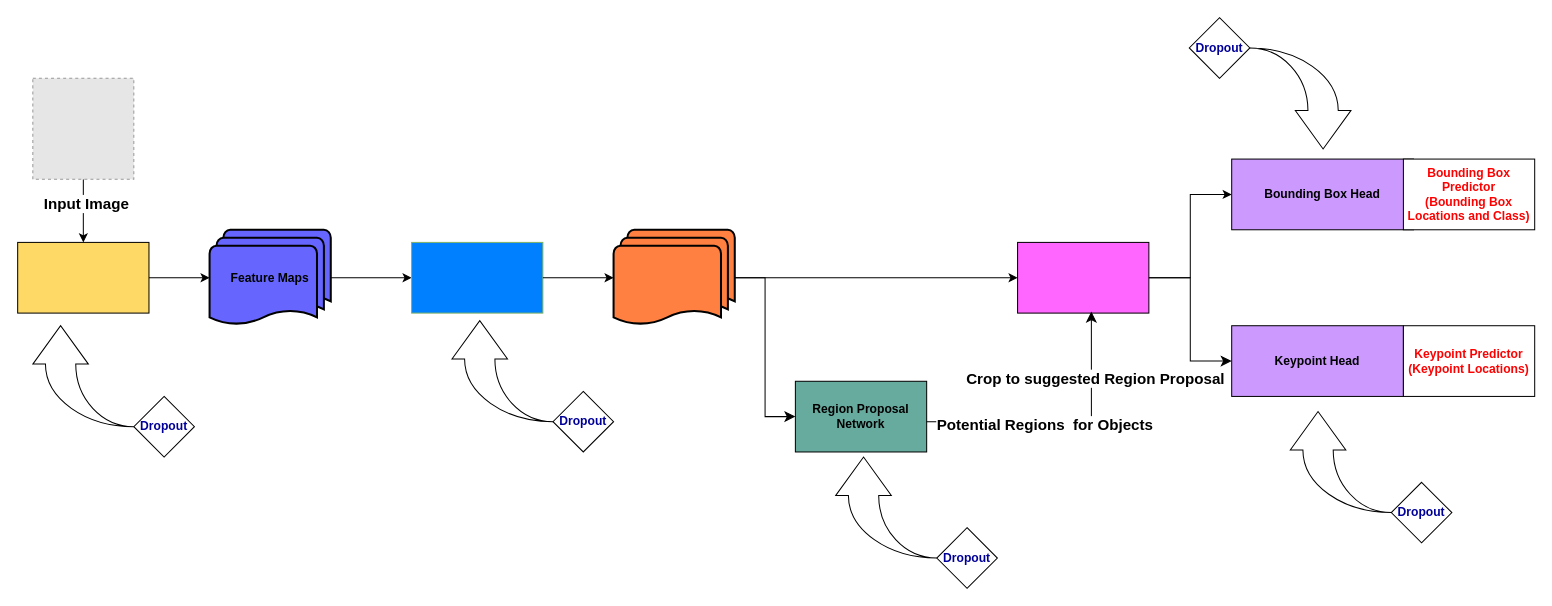
This 1552x606 diagram has some shape labels left out. Grey dashed boxes stand in for pictures. The shapes that lost their labels are listed below. From the top down, each one's centre as x and y in pixels, then its label:
At point 83,277: "MobileNetV3 Feature Extracto r".
At point 477,277: "Feature Pyramid Network".
At point 673,277: "Multi-scale Feature Maps".
At point 1083,277: "Region of Interest Align".
